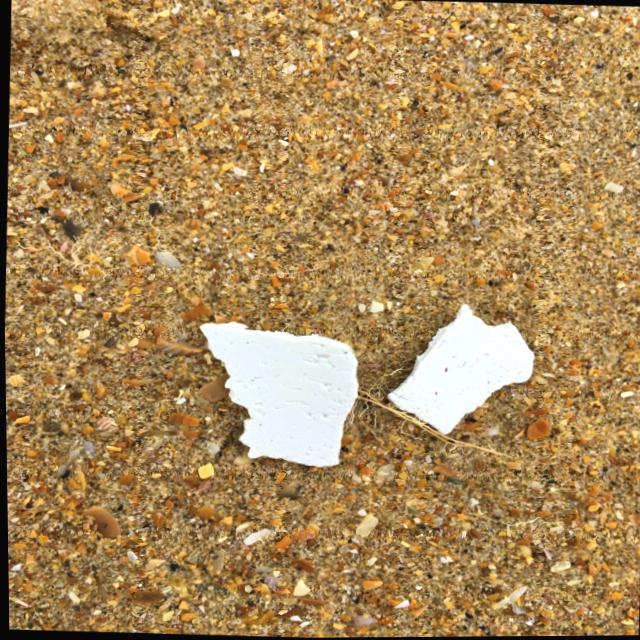Plastic: (183, 292, 374, 493), (372, 294, 551, 445)
